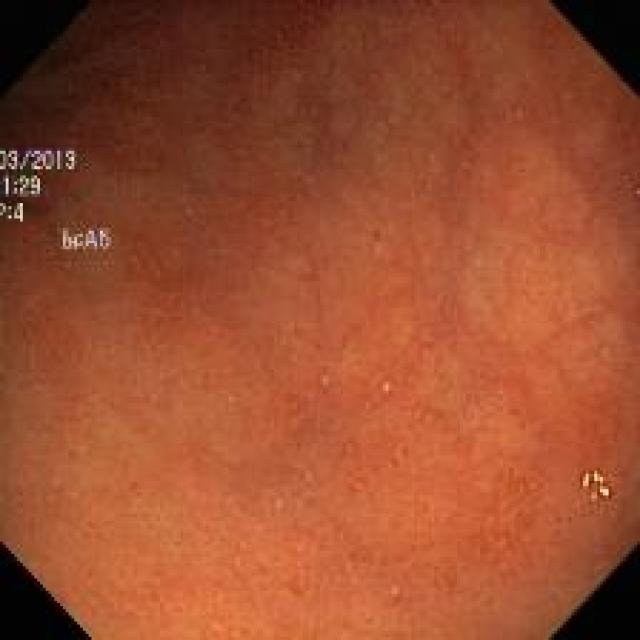ulcerative-colitis-grade-1: (1, 3, 640, 639)
